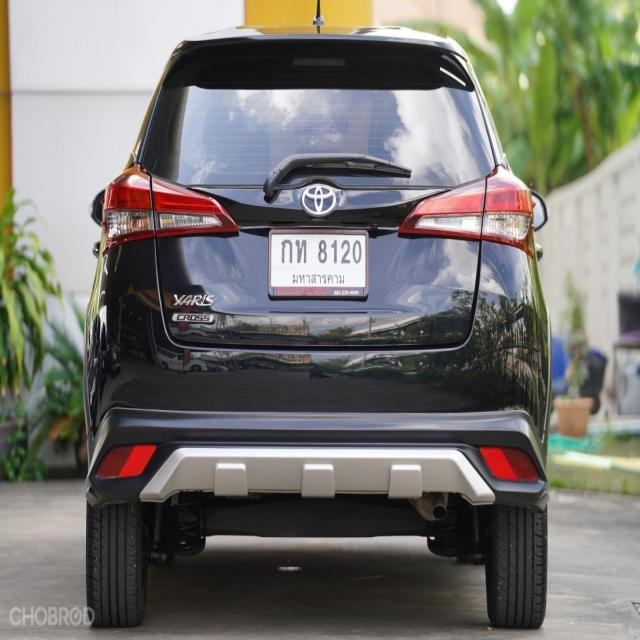license_plate: (267, 225, 370, 302)
